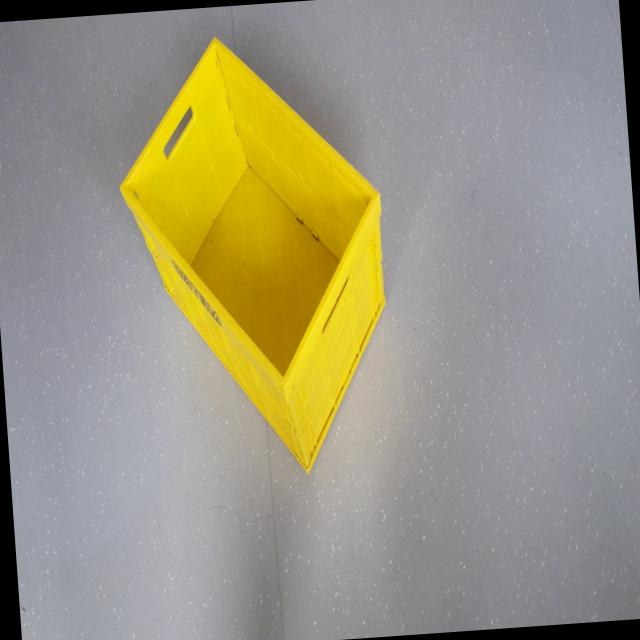box: (109, 12, 410, 505)
